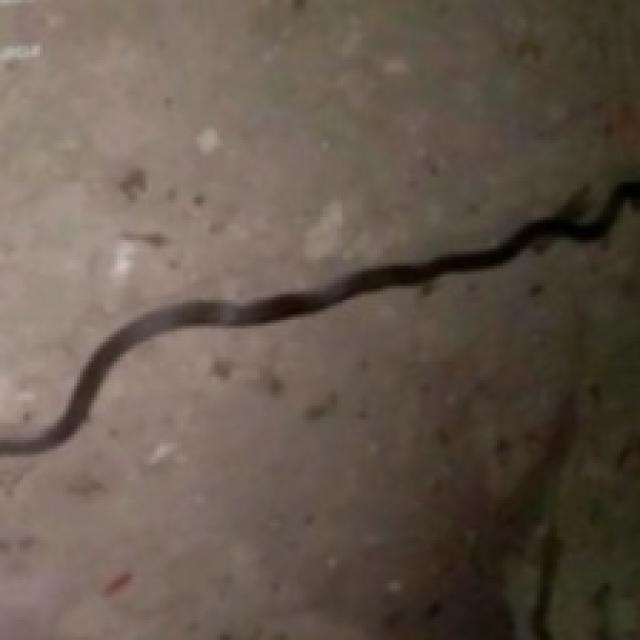king cobra: (0, 180, 637, 451)
